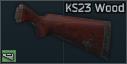KS-23 wooden stock: (0, 0, 127, 64)
